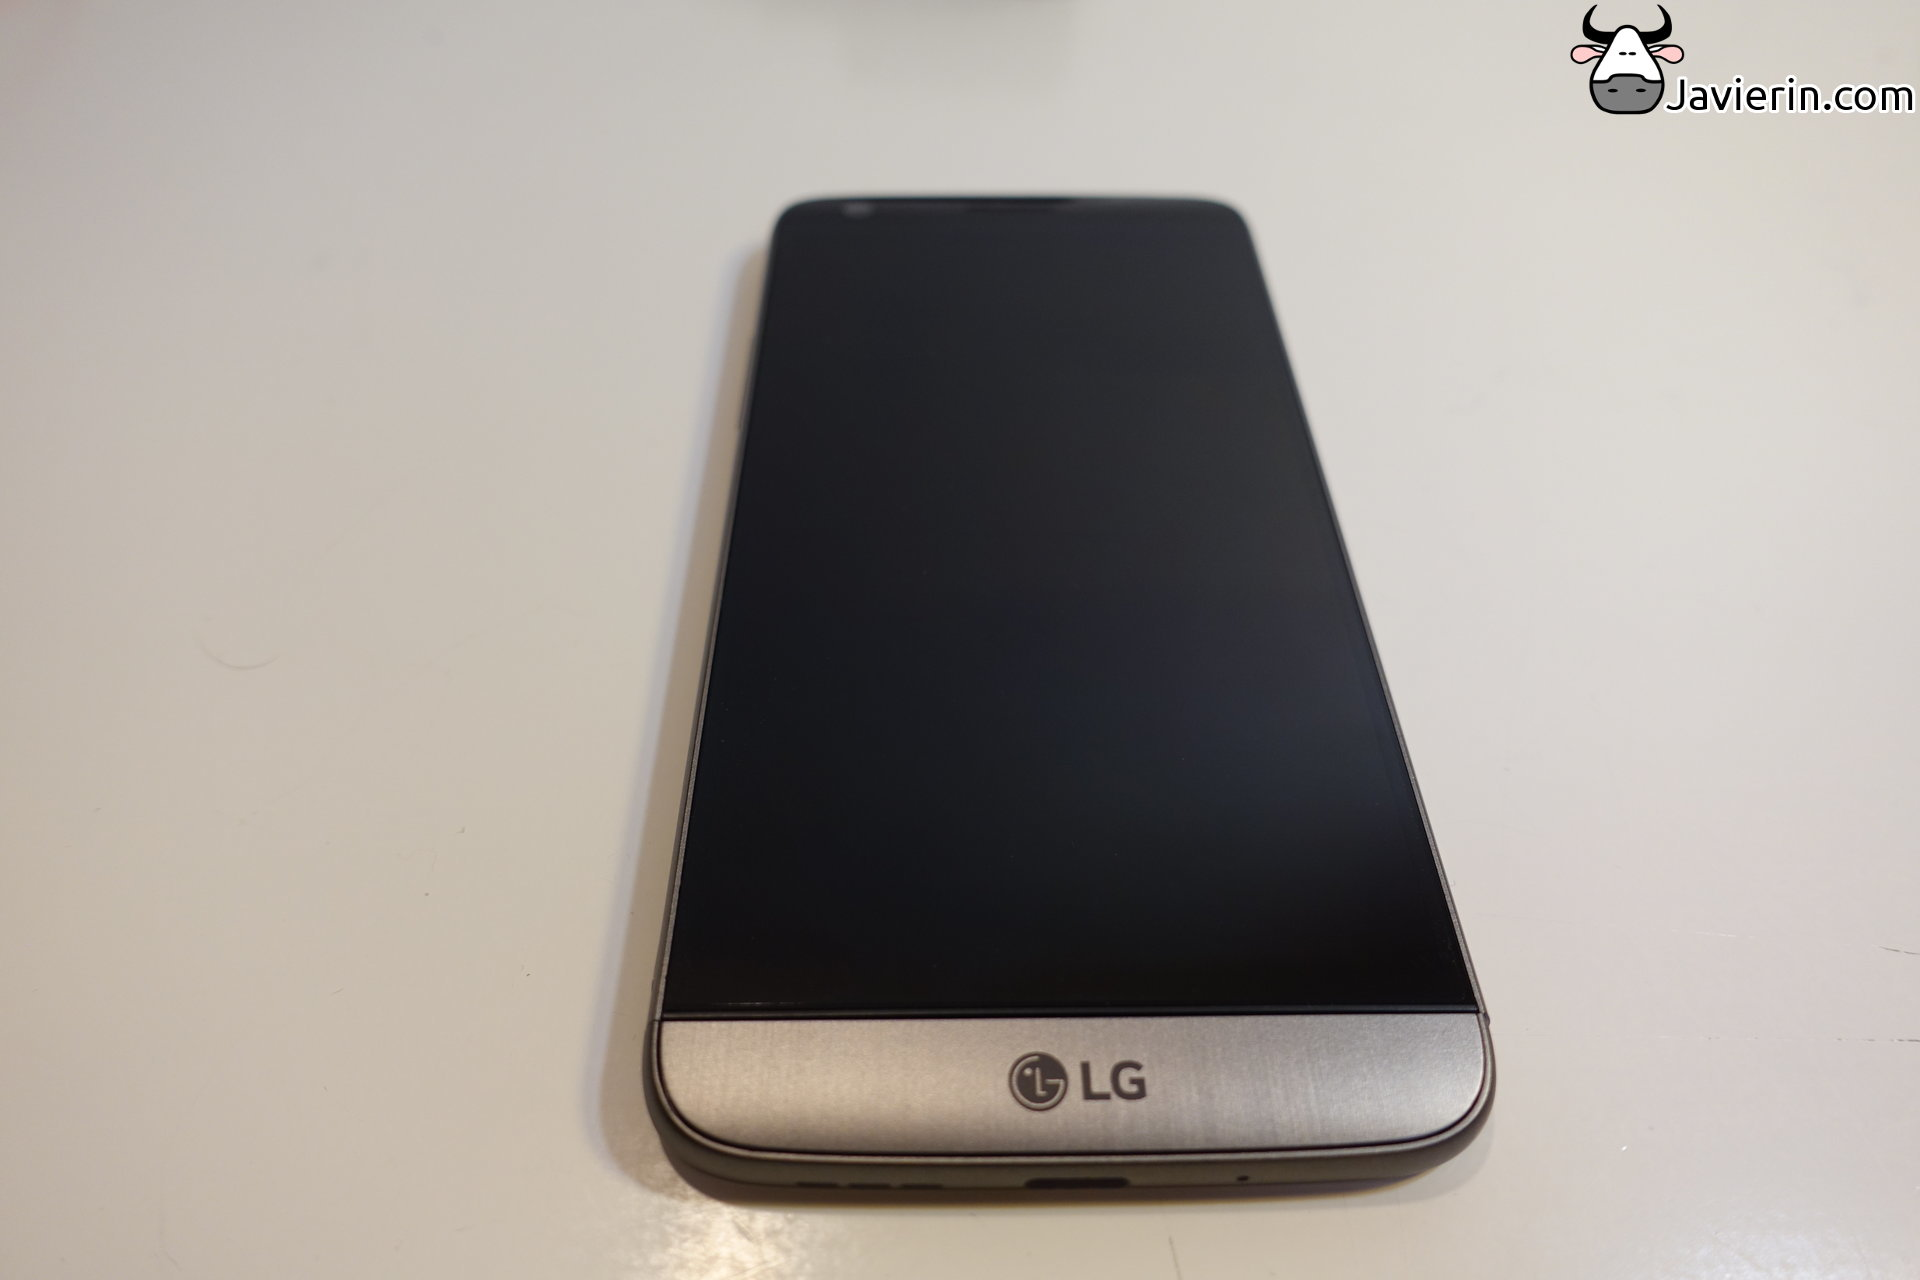smartphone: (639, 191, 1497, 1201)
